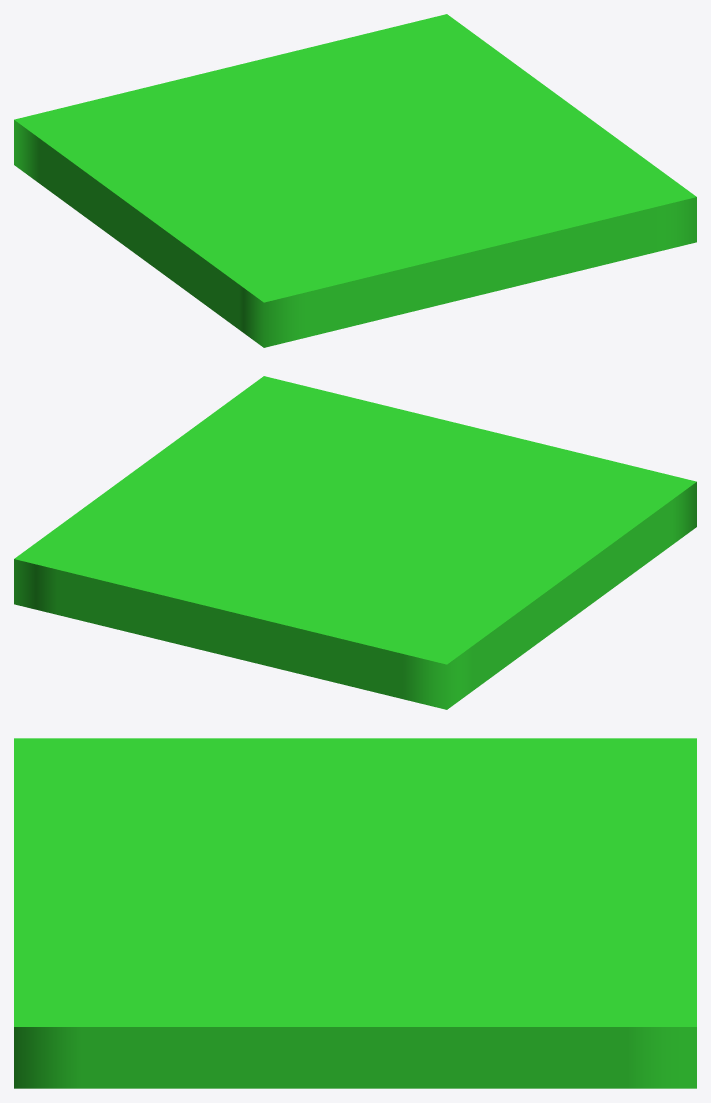
Rendered from Grass.fbx.
3 views of the same model, one above another, from view 1: azimuth 30°, elevation 25°; view 2: azimuth 150°, elevation 25°; view 3: azimuth 270°, elevation 25° (orthographic). The views are drawn at different scales.
Parts seen in each view (by area): view 1: Grass; view 2: Grass; view 3: Grass.
Part boxes in pixels (box(x1,y1,x2,y2)): Grass: box(14, 14, 696, 347); Grass: box(14, 376, 696, 709); Grass: box(14, 738, 696, 1088).
Size of the model in its own units: 200 by 20 by 200.
